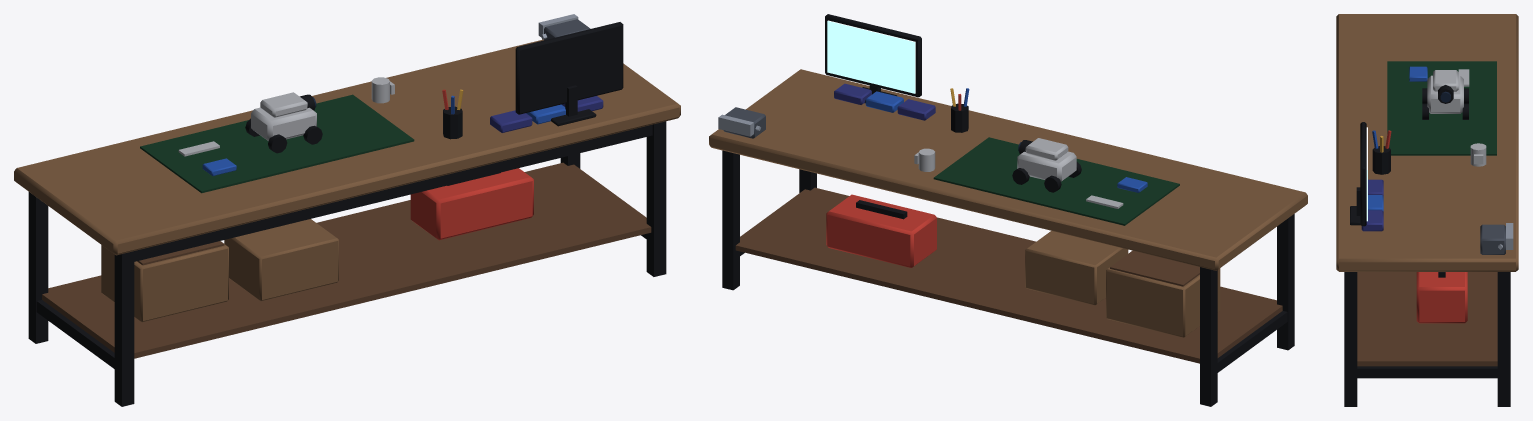
The model's file is workbench.glb.
3 views of the same model, side by side, from view 1: azimuth 30°, elevation 25°; view 2: azimuth 150°, elevation 25°; view 3: azimuth 270°, elevation 25° (orthographic). The views are drawn at different scales.
Parts seen in each view (by area): view 1: body; view 2: body, screen; view 3: body, screen.
Part boxes in pixels (x1=…): body: x1=14, y1=14, x2=680, y2=406; body: x1=709, y1=14, x2=1307, y2=406; screen: x1=827, y1=20, x2=915, y2=93; body: x1=1336, y1=14, x2=1518, y2=406; screen: x1=1366, y1=127, x2=1367, y2=221.
Bounding box in the file's own units: 3.2 × 1.36 × 1.
